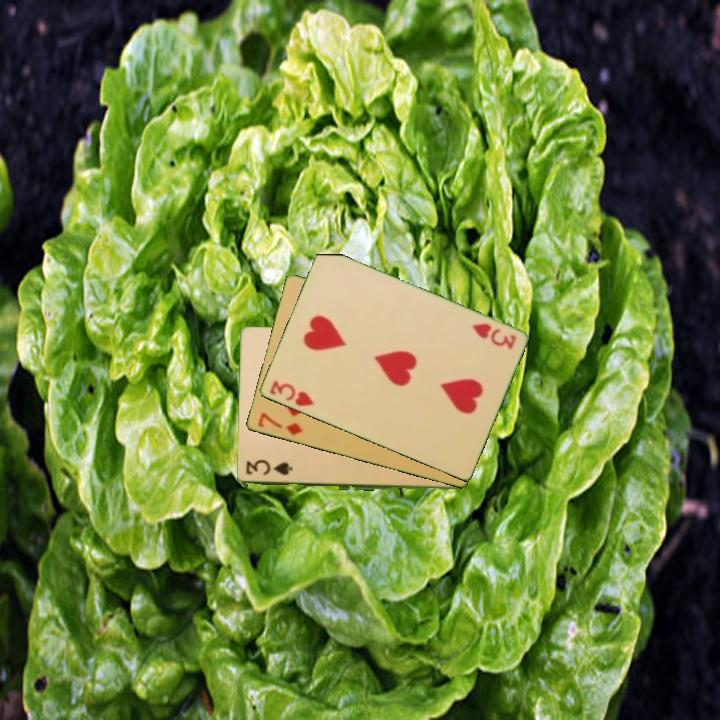3h: (266, 377, 317, 410), (468, 320, 519, 352)
3s: (242, 461, 295, 478)
7d: (254, 409, 305, 439)
